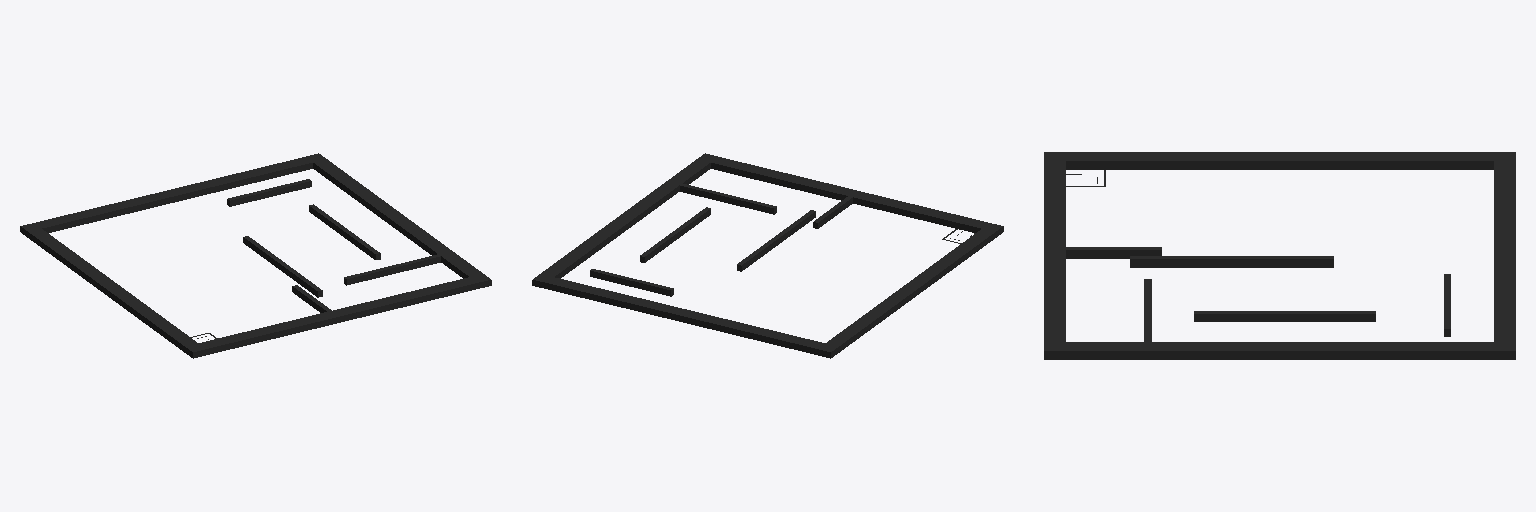
URDF robot description (Room15):
<robot name="Room15">
    <link name="_name">
        <visual> 
            <origin rpy="0.0 0.0 0.0" xyz="-0.525134399169611 -0.4897704802121728 -0.009999999999999988" />
                <geometry>
                    <mesh filename="Room15/Room15.obj" scale="1 1 0.1" />
                </geometry>

            <material name="black">
                <color rgba="0.2 0.2 0.2 0.95" />
            </material>
        </visual>

       <collision concave="yes" name="collision_0">
            <origin rpy="0.0 0.0 0.0" xyz="-0.525134399169611 -0.4897704802121728 -0.009999999999999988" />
            <geometry>
                <mesh filename="Room15/Room15_vhacd.obj" scale="1 1 0.1" />
            </geometry>
        </collision>

        <inertial> 
            <mass value="0" />
            <inertia ixx="0" ixy="0" ixz="0" iyy="0" iyz="0" izz="0" />
        </inertial> 
    </link>
</robot>

--- Facts derived from the render (not from the file) ---
Views: 3 orthographic renders of the robot side by side, from view 1: azimuth 30°, elevation 25°; view 2: azimuth 150°, elevation 25°; view 3: azimuth 270°, elevation 25°.
Robot: Room15 — 1 links, 0 joints (none); root link _name; default pose: every joint at zero.
Links seen in each view (by area): view 1: _name; view 2: _name; view 3: _name.
Link boxes in pixels (x1,y1,x2,y2): _name: (20,153,491,358); _name: (532,153,1003,358); _name: (1044,152,1515,359).
Size in the robot's own frame: 1 by 1 by 0.02 metres.
1 mesh visuals loaded from 1 distinct referenced files (1 OBJ).